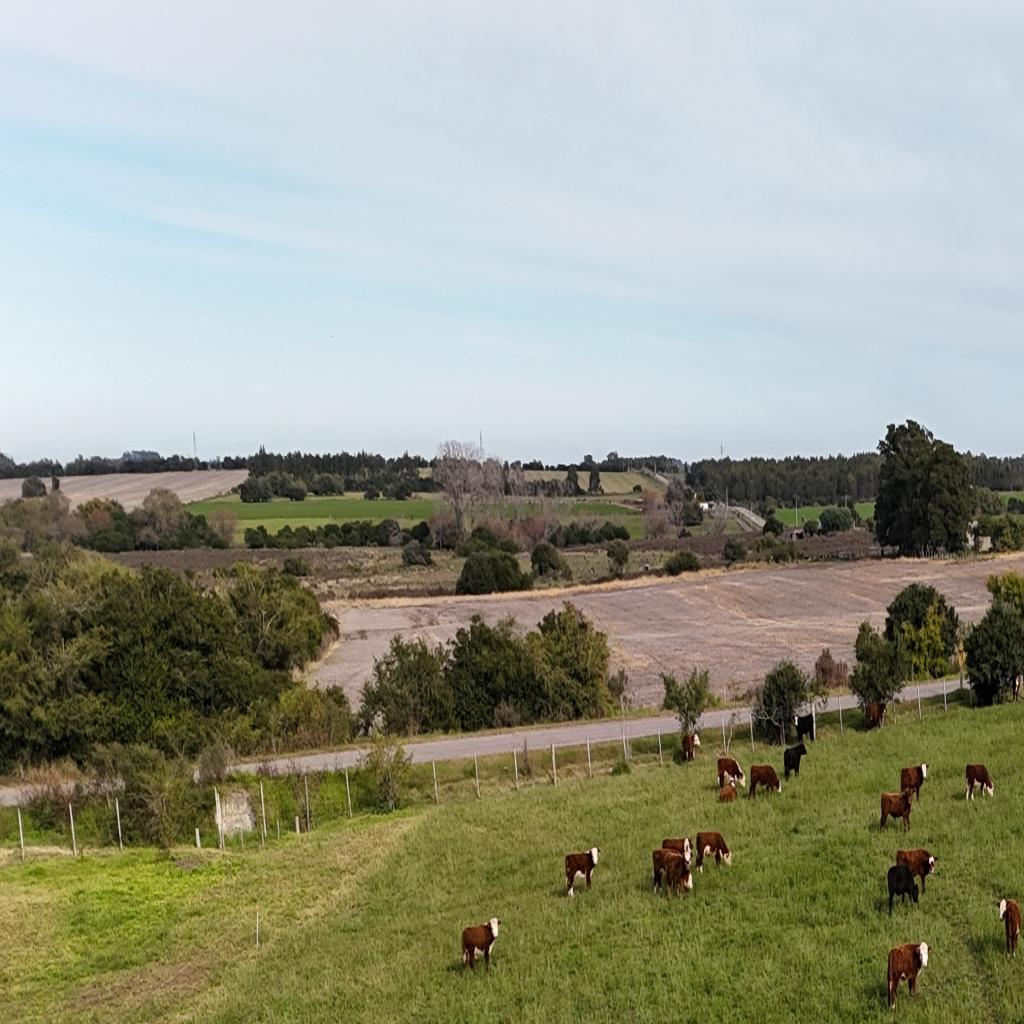cow: (887, 940, 931, 1008), (461, 916, 501, 972), (652, 848, 691, 899), (563, 847, 600, 897), (886, 864, 921, 914), (879, 786, 916, 833), (996, 898, 1022, 960), (695, 831, 731, 870), (964, 763, 994, 803), (749, 764, 781, 800), (717, 756, 746, 792), (783, 742, 808, 782), (892, 849, 936, 870), (900, 762, 932, 789), (794, 711, 816, 744), (864, 702, 887, 732), (661, 837, 692, 857), (682, 732, 700, 764)
